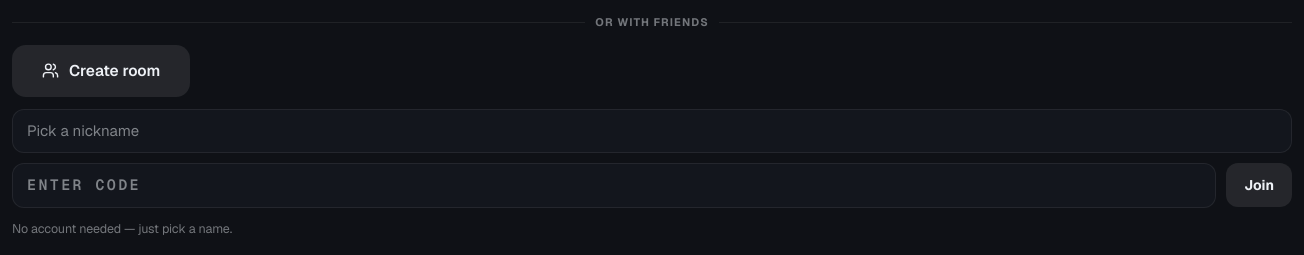
Test: FriendsRoomEntry — guest join › names the rate limit (429) rather than falling back to generic
The width and height of the screenshot is (1304, 255).
Type "Sam" into the field with placeholder "Pick a nickname" at (652, 131), box [12, 108, 1292, 153]
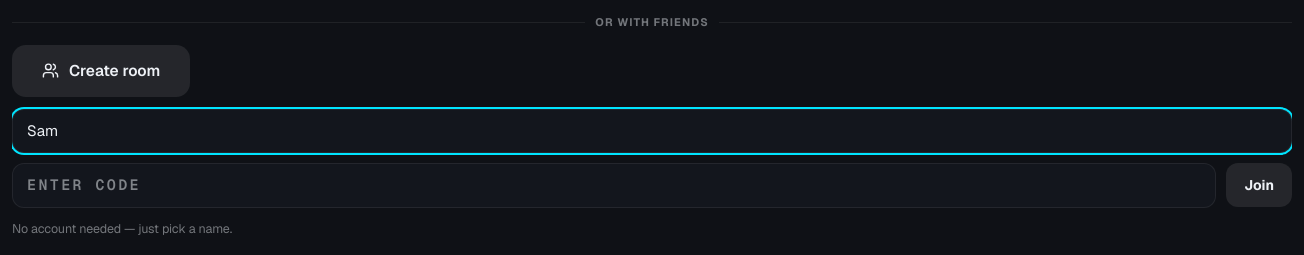
Type "ABC12" into the field with placeholder "Enter code" at (614, 185), box [12, 163, 1216, 208]
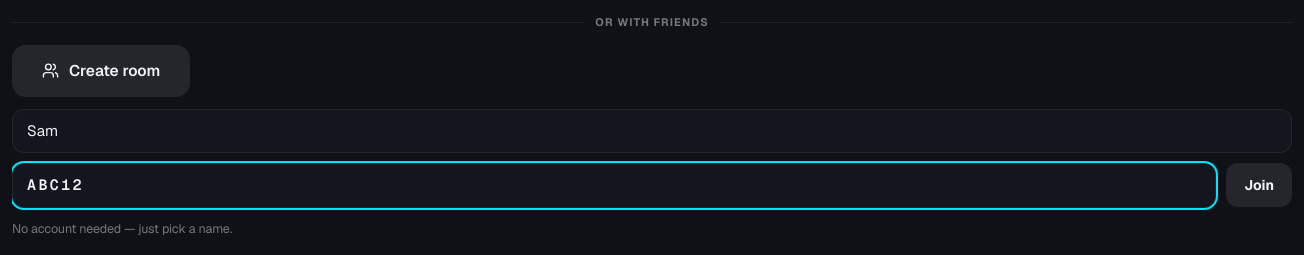
Click the button "Join" at (1259, 185), box [1226, 163, 1292, 207]
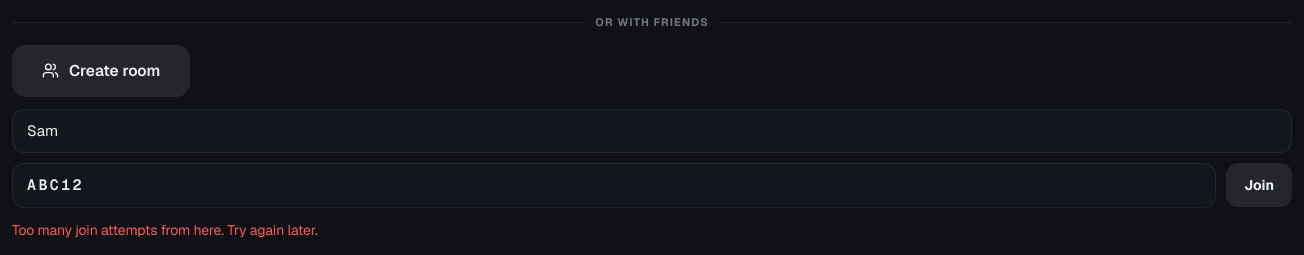
Check: the text "Too many join attempts from here. Try again later." is shown, box [12, 220, 318, 238]
